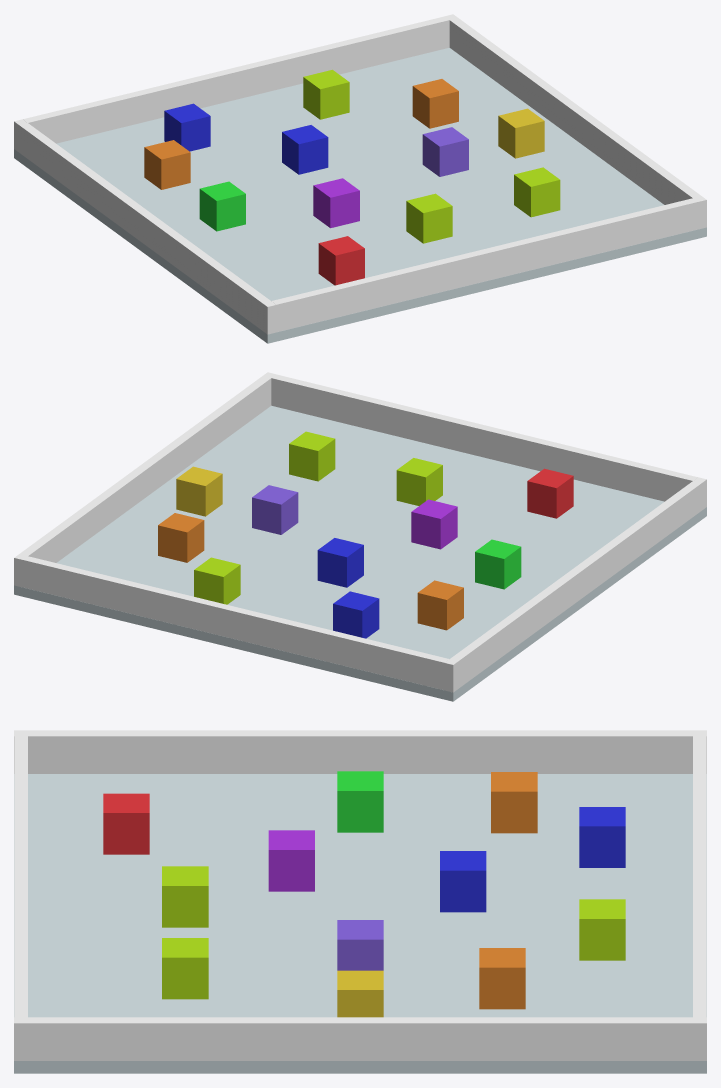
Rendered from playground.glb.
3 views of the same model, one above another, from view 1: azimuth 30°, elevation 25°; view 2: azimuth 150°, elevation 25°; view 3: azimuth 270°, elevation 25° (orthographic). The views are drawn at different scales.
Parts seen in each view (by area): view 1: ground, wall04, wall03, wall01, wall02, block1, block6, block5, block7, block9, block8, block10 (+5 smaller); view 2: ground, wall03, wall04, wall01, wall02, block1, block6, block10, block7, block9, block3, block11 (+5 smaller); view 3: ground, wall02, wall01, wall03, wall04, block1, block3, block7, block5, block9, block10, block8 (+5 smaller).
Boxes of the visible parts, x1=… form: ground: x1=14, y1=47, x2=706, y2=343; wall04: x1=271, y1=198, x2=697, y2=332; wall03: x1=23, y1=16, x2=449, y2=143; wall01: x1=14, y1=119, x2=276, y2=334; wall02: x1=445, y1=14, x2=706, y2=229; block1: x1=199, y1=181, x2=245, y2=231; block6: x1=498, y1=108, x2=544, y2=158; block5: x1=406, y1=193, x2=452, y2=243; block7: x1=313, y1=178, x2=359, y2=228; block9: x1=144, y1=140, x2=190, y2=189; block8: x1=412, y1=79, x2=458, y2=128; block10: x1=514, y1=167, x2=560, y2=217; ground: x1=14, y1=405, x2=706, y2=701; wall03: x1=23, y1=556, x2=449, y2=690; wall04: x1=271, y1=374, x2=697, y2=501; wall01: x1=444, y1=477, x2=706, y2=692; wall02: x1=14, y1=372, x2=275, y2=587; block1: x1=475, y1=539, x2=521, y2=589; block6: x1=176, y1=466, x2=222, y2=516; block10: x1=289, y1=431, x2=335, y2=481; block7: x1=411, y1=499, x2=457, y2=549; block9: x1=417, y1=580, x2=463, y2=630; block3: x1=527, y1=468, x2=573, y2=518; block11: x1=317, y1=538, x2=363, y2=587; ground: x1=14, y1=774, x2=706, y2=1073; wall02: x1=14, y1=1017, x2=706, y2=1060; wall01: x1=14, y1=730, x2=706, y2=773; wall03: x1=693, y1=736, x2=706, y2=1017; wall04: x1=14, y1=736, x2=27, y2=1017; block1: x1=337, y1=771, x2=383, y2=832; block3: x1=103, y1=793, x2=149, y2=854; block7: x1=268, y1=830, x2=314, y2=891; block5: x1=162, y1=866, x2=208, y2=927; block9: x1=491, y1=772, x2=537, y2=833; block10: x1=162, y1=938, x2=208, y2=999; block8: x1=479, y1=948, x2=525, y2=1009.
Size of the model in its own units: 50.01 by 4.32 by 50.
